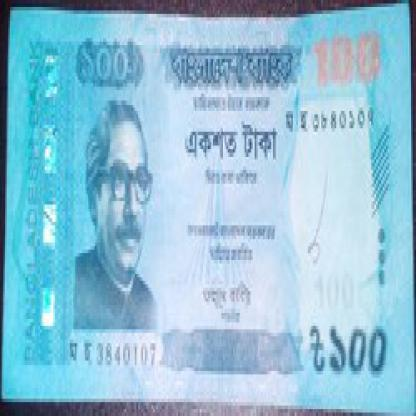one hundred taka: (326, 305, 396, 392), (311, 17, 386, 90), (70, 35, 146, 90)
